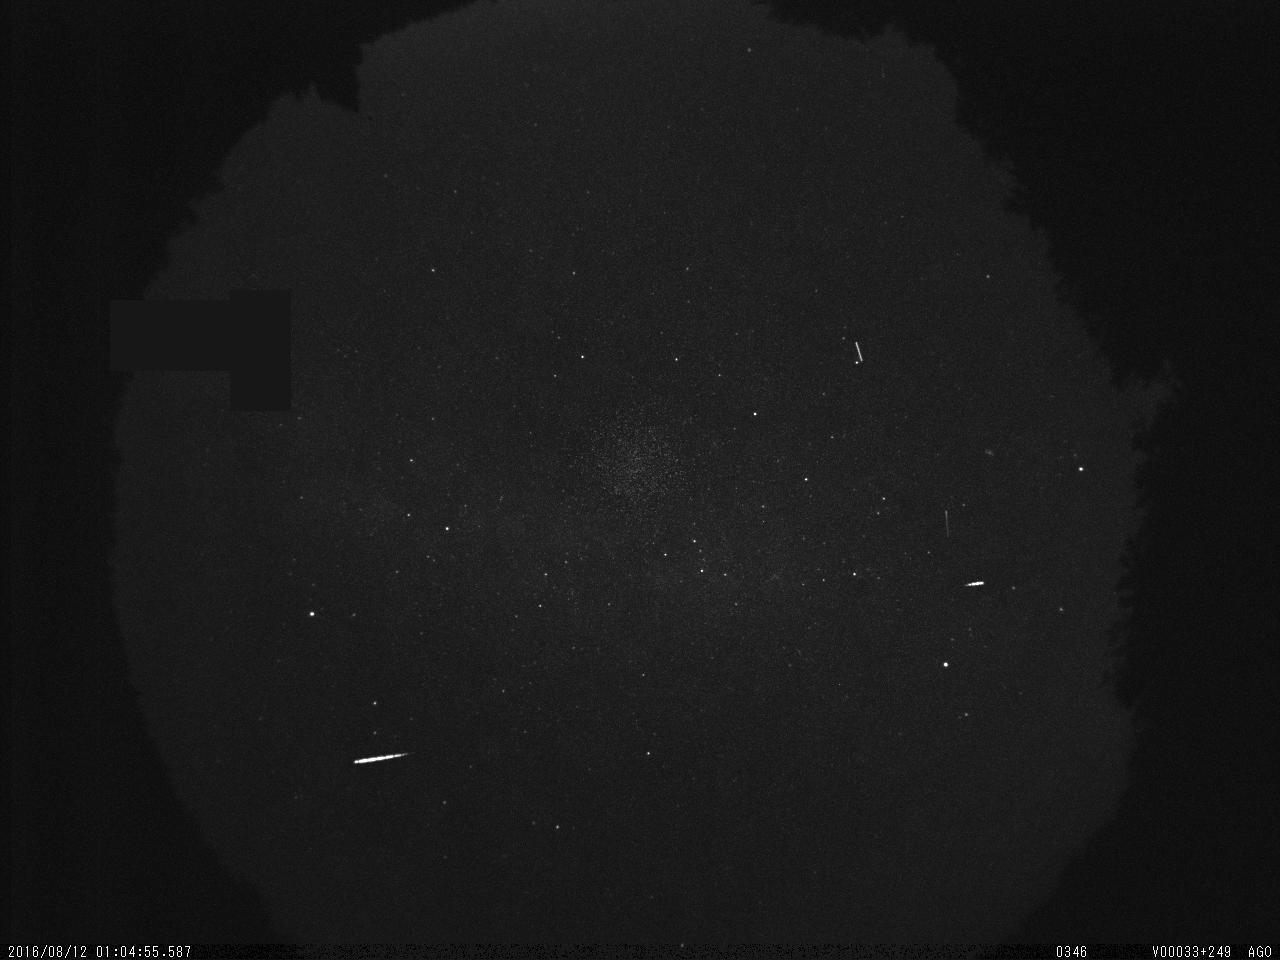meteor: (344, 744, 422, 775), (954, 571, 994, 596)
